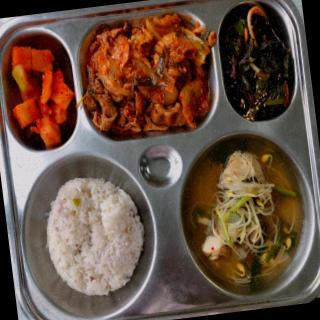Nasi: (42, 176, 153, 304)
